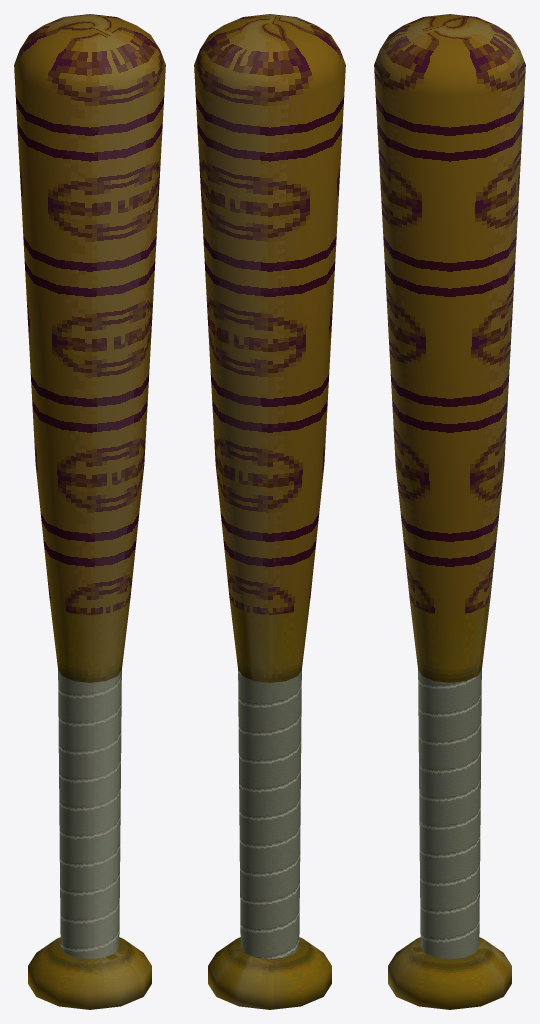
File: ItmHomeRunBat.obj
3 renders of one model, left to right at view 1: azimuth 30°, elevation 25°; view 2: azimuth 150°, elevation 25°; view 3: azimuth 270°, elevation 25°, orthographic.
Visible parts, largest first — view 1: polygon1, polygon2, polygon0; view 2: polygon1, polygon2, polygon0; view 3: polygon1, polygon2, polygon0.
Boxes of the visible parts, x1,y1,x2,y2 form: polygon1: (14,14,165,615); polygon2: (58,670,121,958); polygon0: (28,599,151,1009); polygon1: (194,14,345,615); polygon2: (238,670,301,958); polygon0: (208,599,331,1009); polygon1: (374,14,525,615); polygon2: (418,670,481,958); polygon0: (388,599,511,1009).
Bounding box in the file's own units: 1.75 × 12.34 × 1.75.
Materials: 3 (3 with a texture image).
